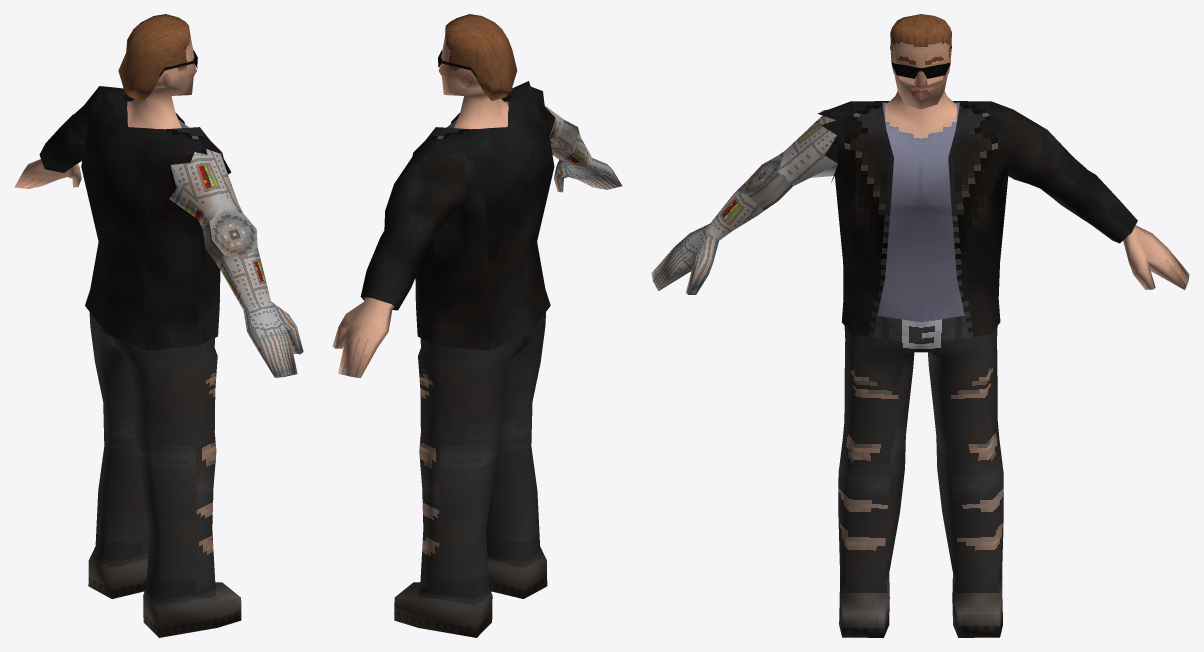
3 renders of one model, left to right at view 1: azimuth 30°, elevation 25°; view 2: azimuth 150°, elevation 25°; view 3: azimuth 270°, elevation 25°, orthographic. The views are drawn at different scales.
Visible parts, largest first — view 1: max; view 2: max; view 3: max.
Boxes of the visible parts, x1=… form: max: x1=14, y1=14, x2=303, y2=637; max: x1=332, y1=14, x2=622, y2=637; max: x1=651, y1=14, x2=1189, y2=637.
Size of the model in its own units: 0.3639 by 1.98 by 1.61.
Materials: 1 (1 with a texture image).
